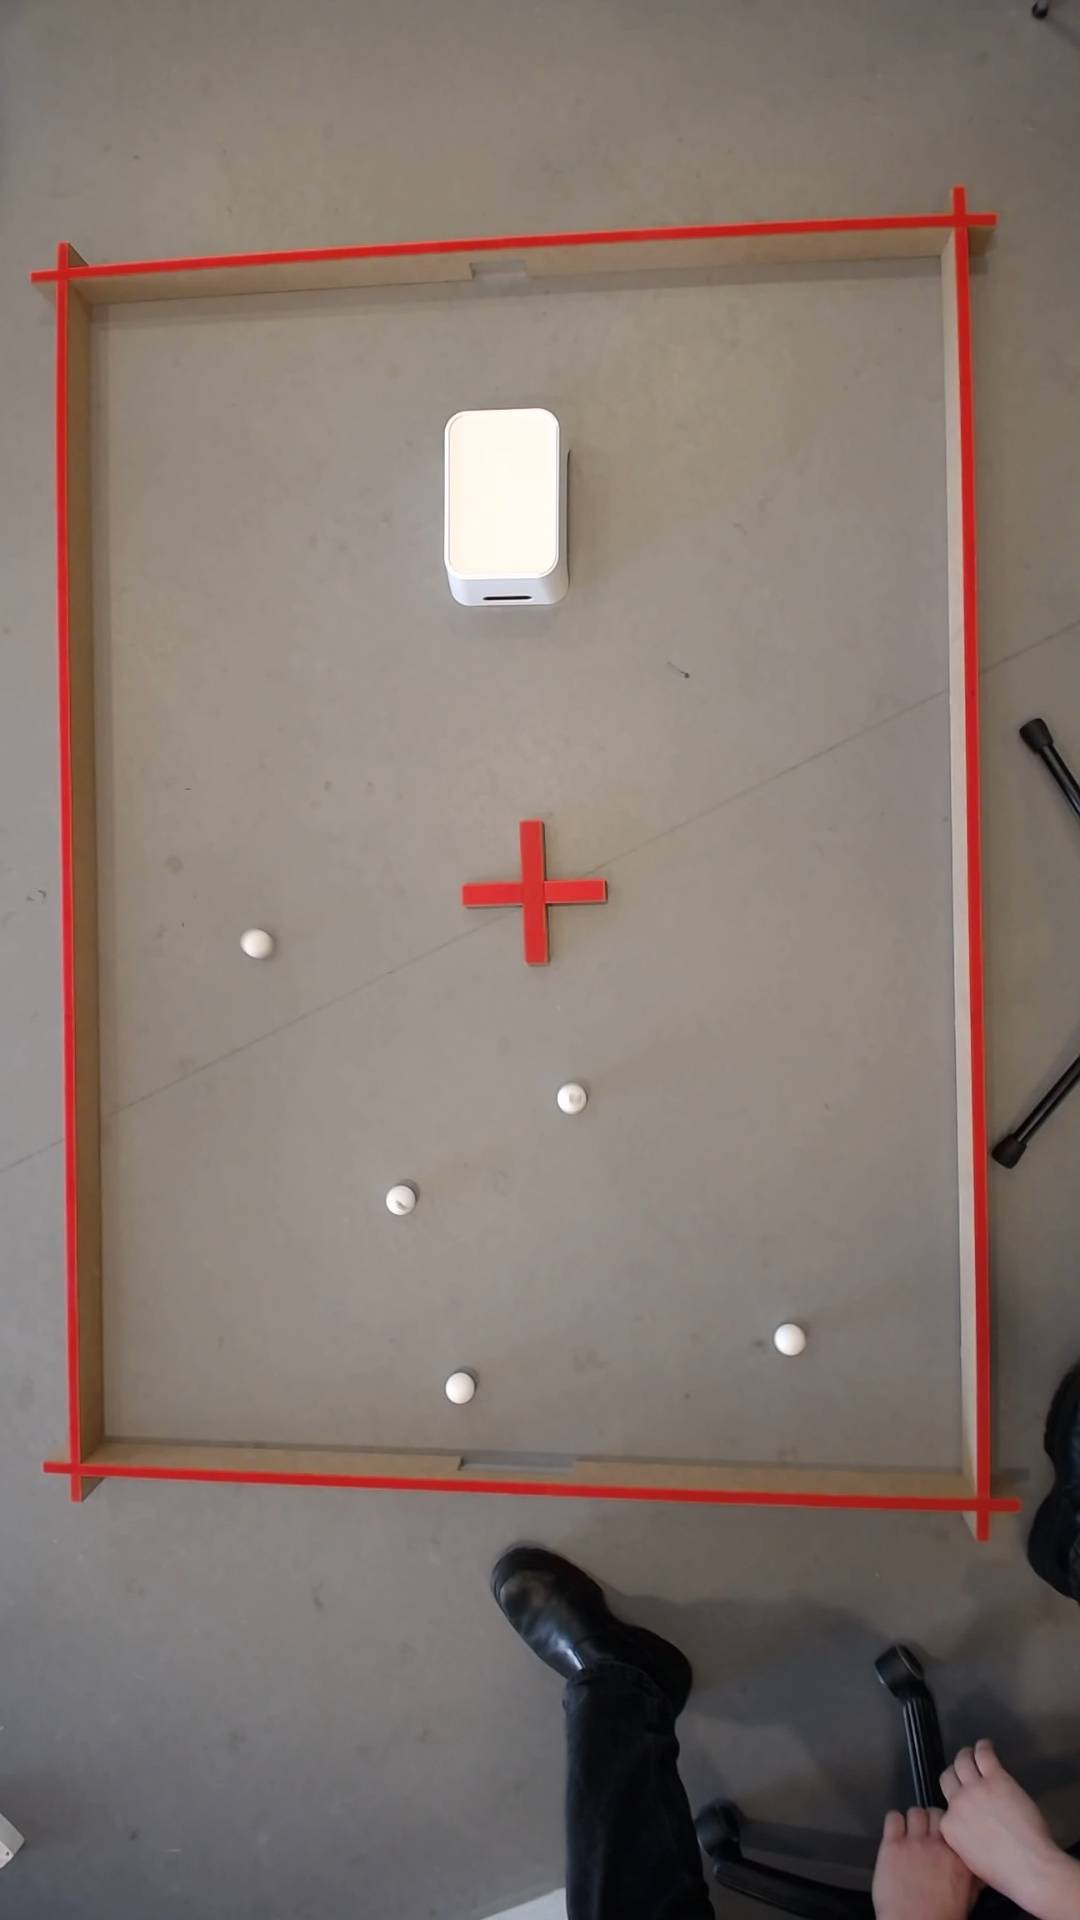balls: (440, 1369, 472, 1404), (769, 1323, 802, 1356), (380, 1182, 411, 1216), (237, 927, 265, 957), (554, 1083, 578, 1113)
car: (447, 467, 450, 559)
